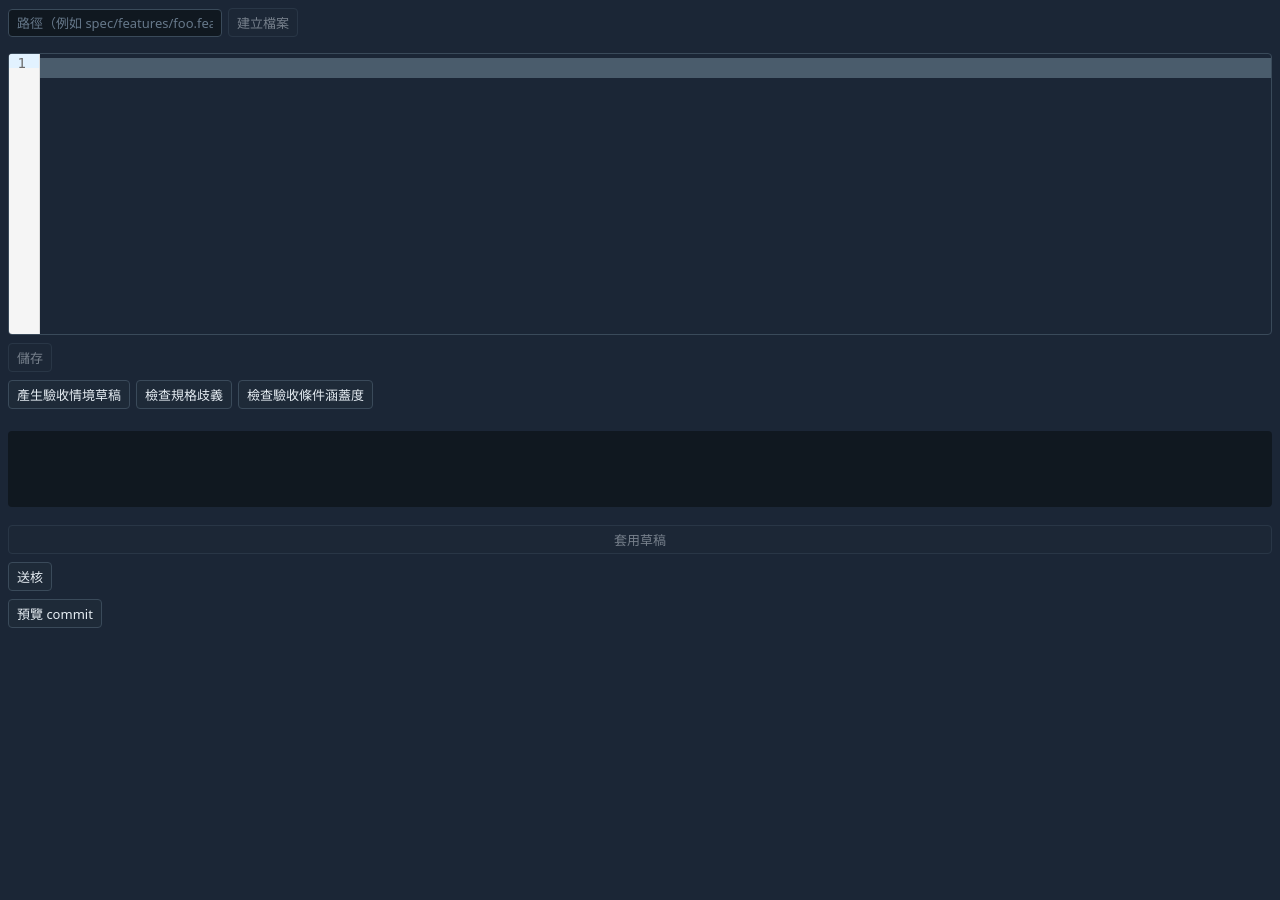
Test case: SpecWorkspace draft accept › binds the draft via the correlation_id returned by SpecAssist
The width and height of the screenshot is (1280, 900).
Click the button with test id "assist-draft".
click(69, 394)  # box [8,380,130,409]
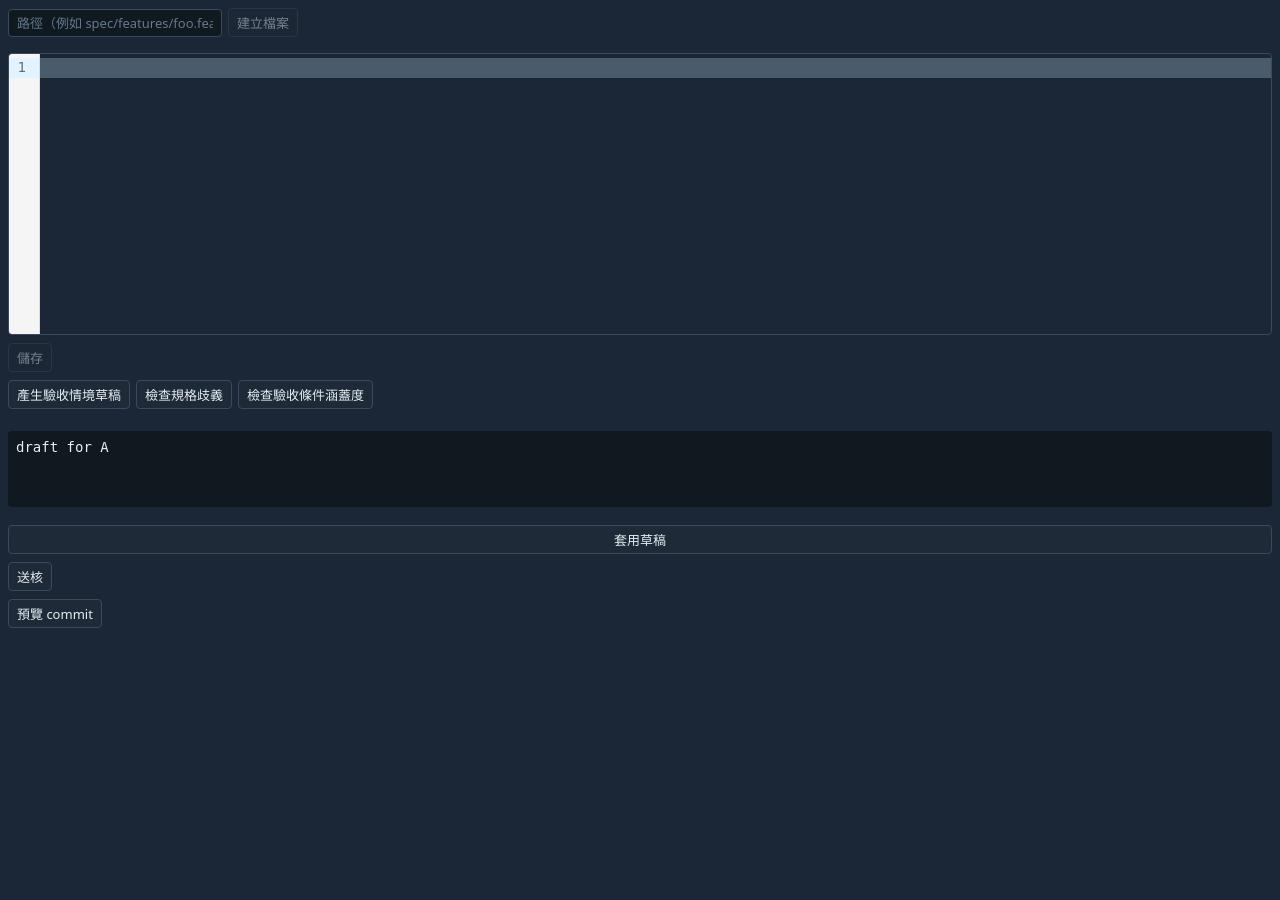
Expected: the text with test id "draft-text" reads "draft for A", [16,439,109,455]
